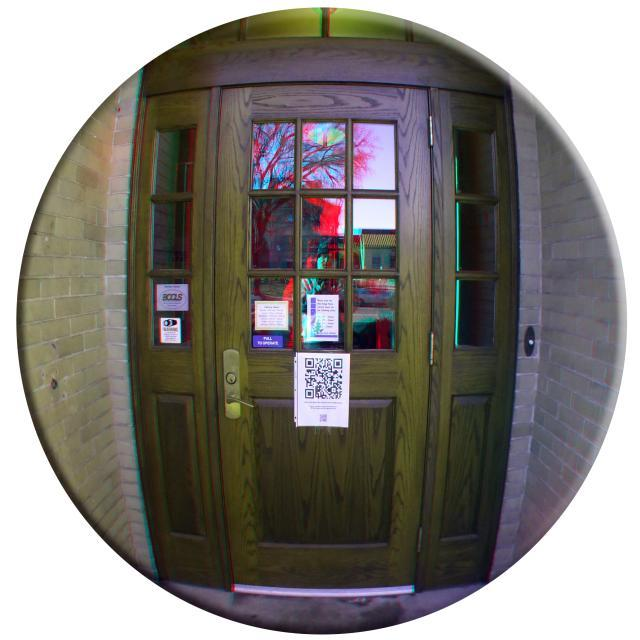qr-code: (305, 358, 343, 400)
